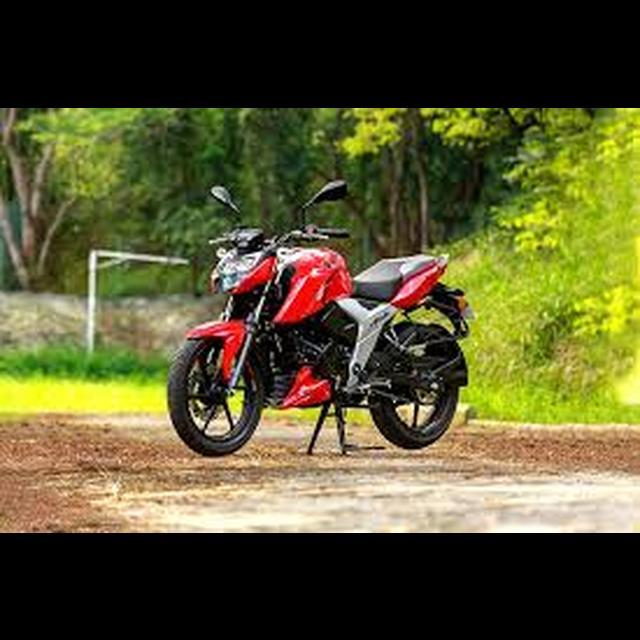motorcycle: (163, 179, 476, 461)
